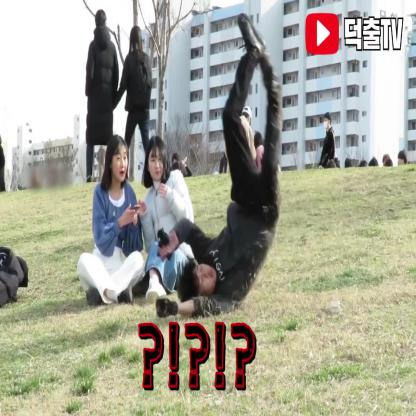Fall_Down: (155, 11, 283, 321)
